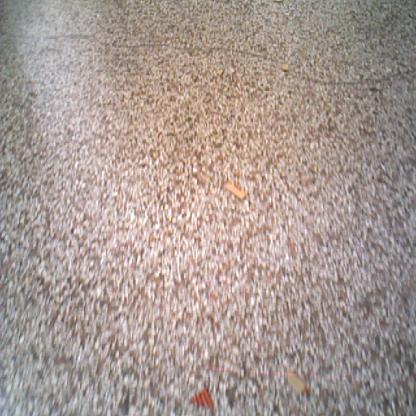dirty: (187, 385, 215, 411), (285, 370, 310, 396), (224, 182, 248, 202), (214, 68, 224, 76), (280, 62, 288, 72), (273, 1, 284, 3)
